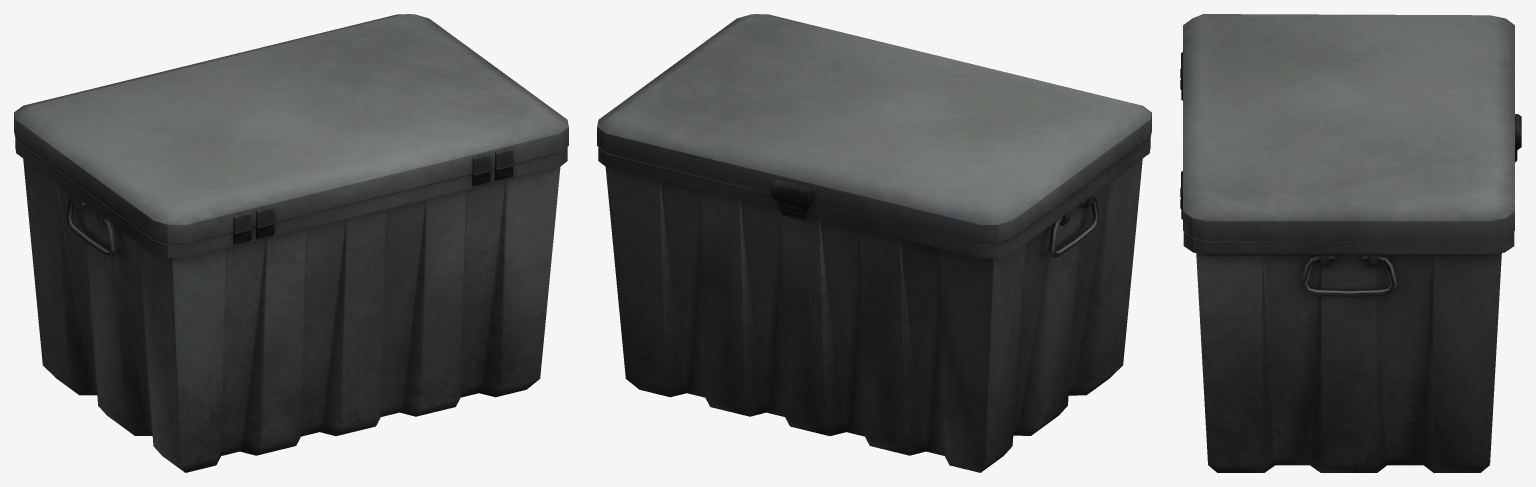
Rendered from crate1.glb.
3 renders of one model, left to right at view 1: azimuth 30°, elevation 25°; view 2: azimuth 150°, elevation 25°; view 3: azimuth 270°, elevation 25°, orthographic.
Parts seen in each view (by area): view 1: studio_cratebev_ref_mesh_0; view 2: studio_cratebev_ref_mesh_0; view 3: studio_cratebev_ref_mesh_0.
Boxes of the visible parts, x1=… form: studio_cratebev_ref_mesh_0: x1=14, y1=14, x2=568, y2=472; studio_cratebev_ref_mesh_0: x1=597, y1=14, x2=1151, y2=472; studio_cratebev_ref_mesh_0: x1=1180, y1=14, x2=1521, y2=472.
Size of the model in its own units: 40.44 by 25.56 by 28.32.
Materials: 1 (1 with a texture image).
